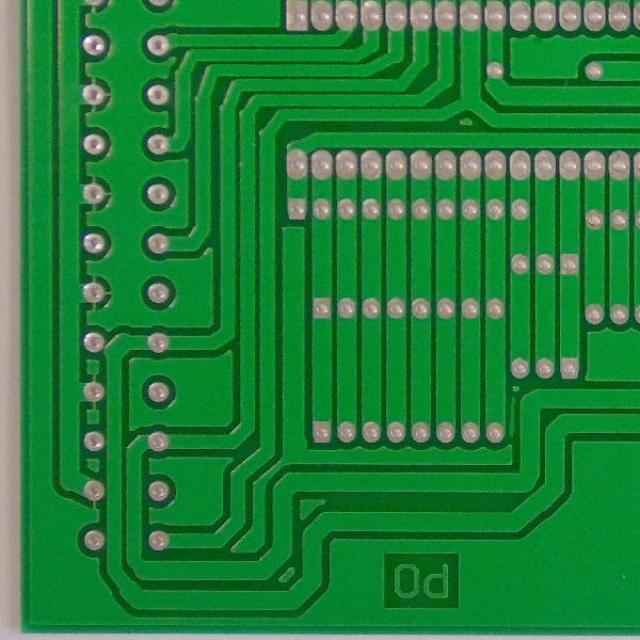spurious_copper: (506, 396, 520, 438)
